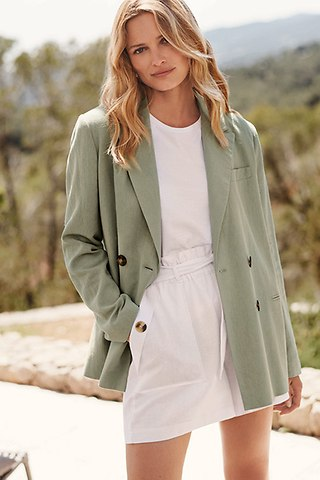F_W_suit jacket: (70, 89, 304, 412)
